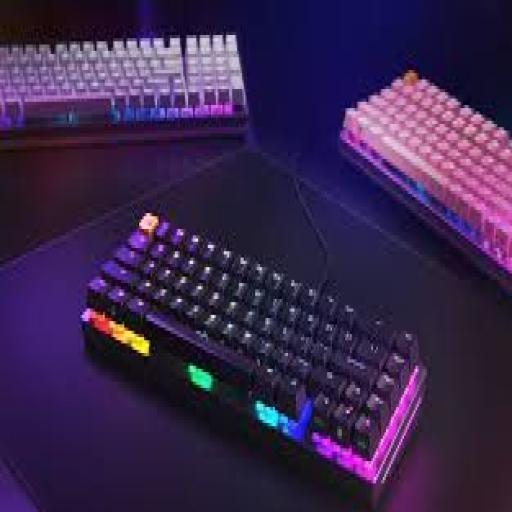keyboard: (82, 213, 425, 496), (342, 70, 510, 289), (0, 35, 247, 146)
